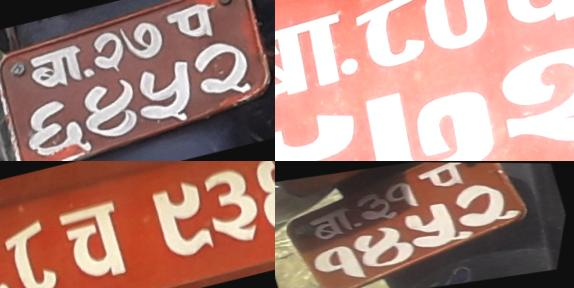0: (414, 0, 509, 63), (26, 43, 90, 94)
1: (189, 33, 263, 103), (306, 242, 378, 286), (86, 27, 132, 77), (379, 178, 428, 212)
2: (488, 25, 574, 161), (443, 178, 532, 232)
3: (195, 161, 273, 251), (349, 190, 404, 226)
4: (20, 92, 98, 161), (346, 223, 427, 273), (243, 161, 275, 249)
5: (76, 74, 150, 146), (395, 199, 482, 258)
6: (130, 56, 205, 129)
7: (357, 59, 519, 161), (116, 13, 172, 65)
8: (347, 0, 441, 75), (0, 211, 74, 288), (160, 0, 226, 47)
9: (141, 168, 226, 268), (275, 95, 391, 161)
ba: (275, 5, 368, 115), (302, 206, 368, 242)
cha: (49, 190, 147, 288)
pa: (485, 0, 574, 38), (409, 162, 475, 191)
